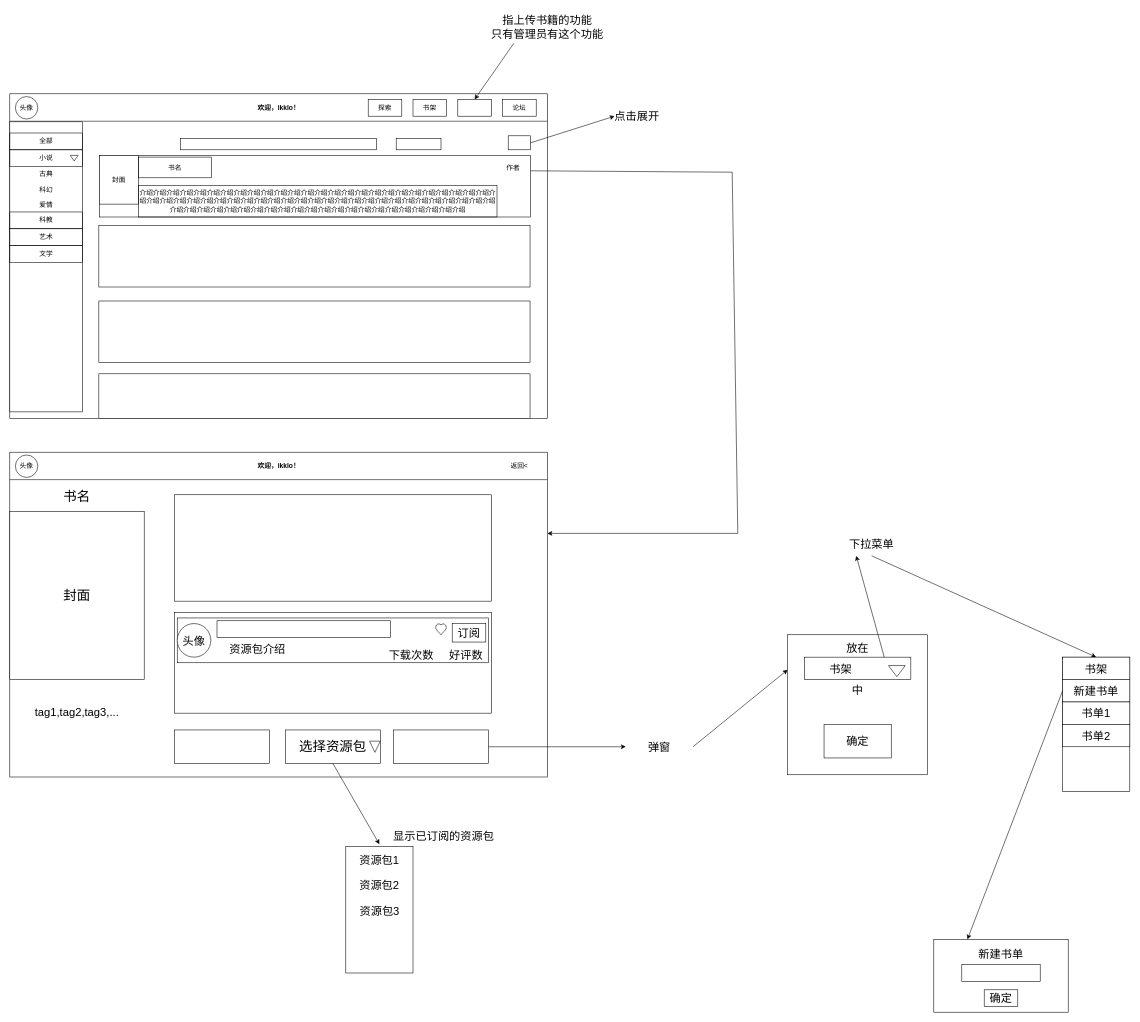
This 1140x1022 diagram has some shape labels left out. The centre of each missing label's shape, as x and y in pixels:
"上传" belongs at pixel 474 107.
"介绍" belongs at pixel 332 547.
"开始阅读" belongs at pixel 222 746.
"排序" belongs at pixel 519 142.
"搜索" belongs at pixel 418 144.
"添加到书架" belongs at pixel 441 746.
"资源包名字" belongs at pixel 303 629.
"输入书单名字" belongs at pixel 1000 972.
"输入关键词搜索" belongs at pixel 278 144.
